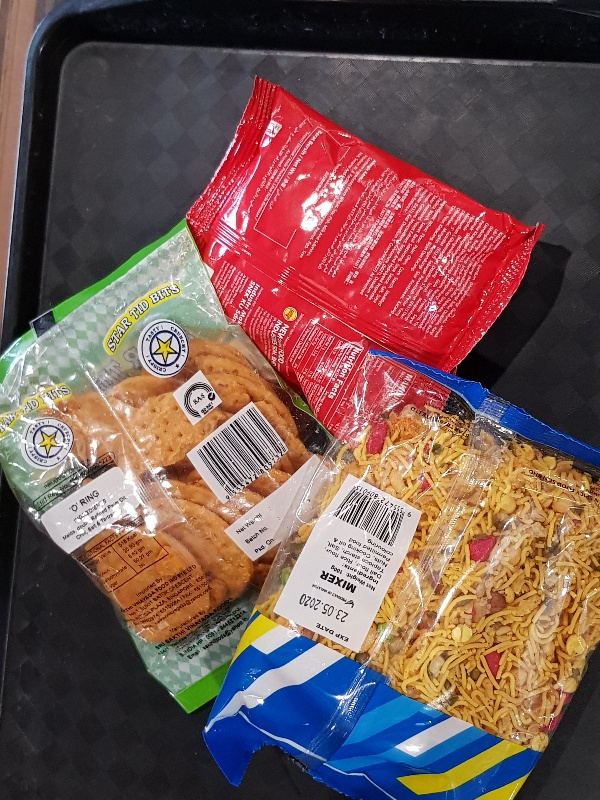ShoyueMi Spicy Flavoured Snacks: (174, 71, 547, 458)
Star Tidbits 'O' Ring: (1, 217, 349, 716)
Star Tidbits Mixer: (202, 347, 600, 796)
